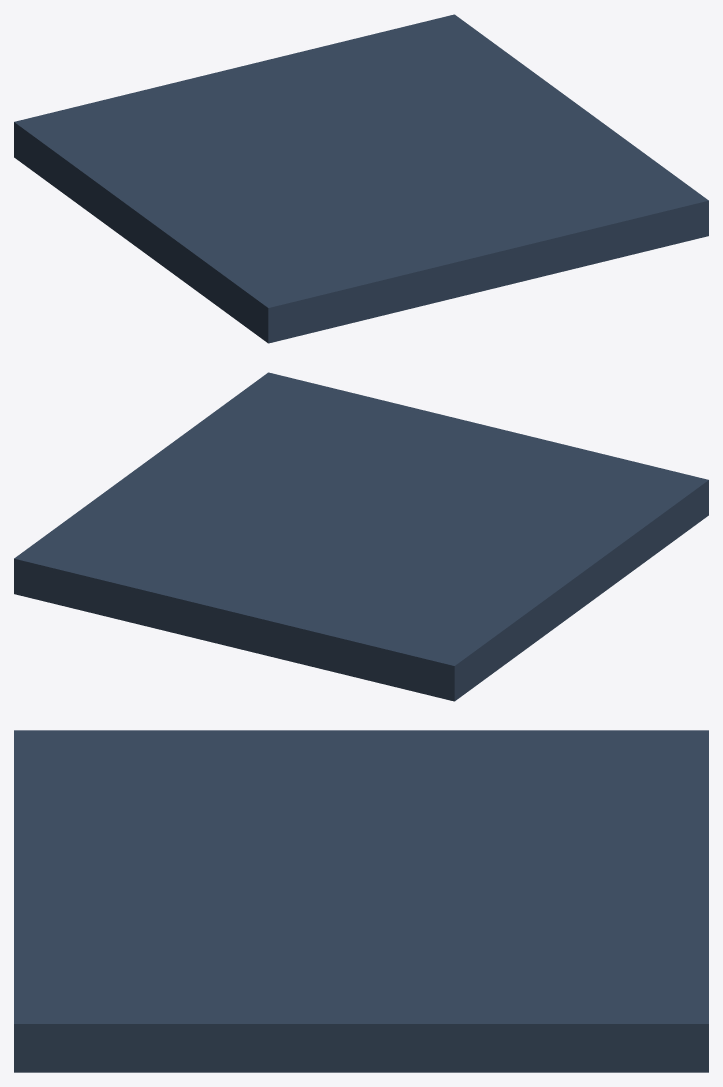
File: env_vent_fan.obj
3 renders of one model, top to bottom at view 1: azimuth 30°, elevation 25°; view 2: azimuth 150°, elevation 25°; view 3: azimuth 270°, elevation 25°, orthographic. The views are drawn at different scales.
Size of the model in its own units: 1.3 by 0.145 by 1.3.
